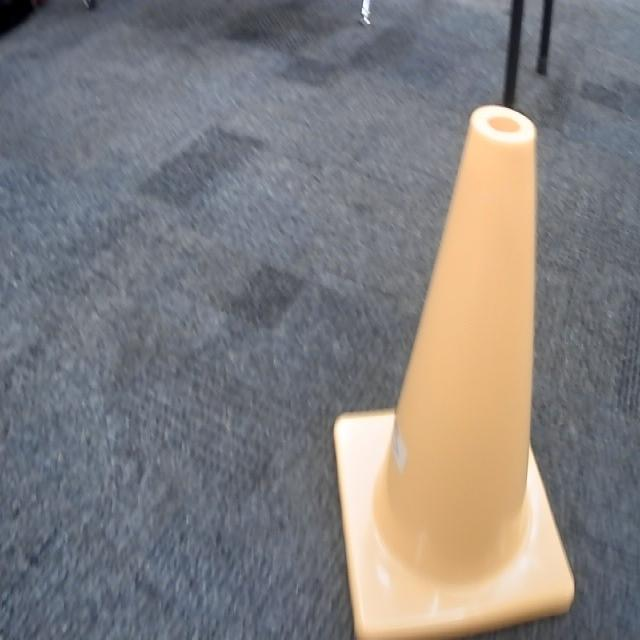cone: (328, 70, 585, 640)
